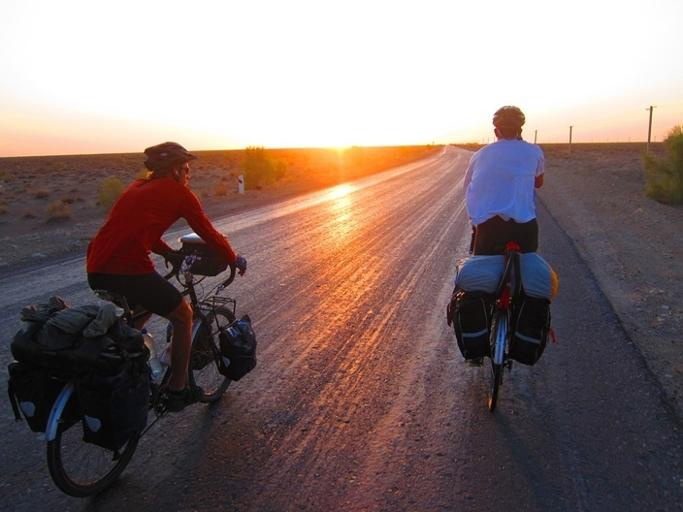non-vehicle: (43, 233, 237, 496), (479, 241, 525, 414)
